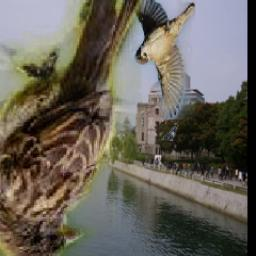Crow: (161, 123, 178, 141)
Sparrow: (0, 0, 142, 256), (118, 0, 195, 121)
